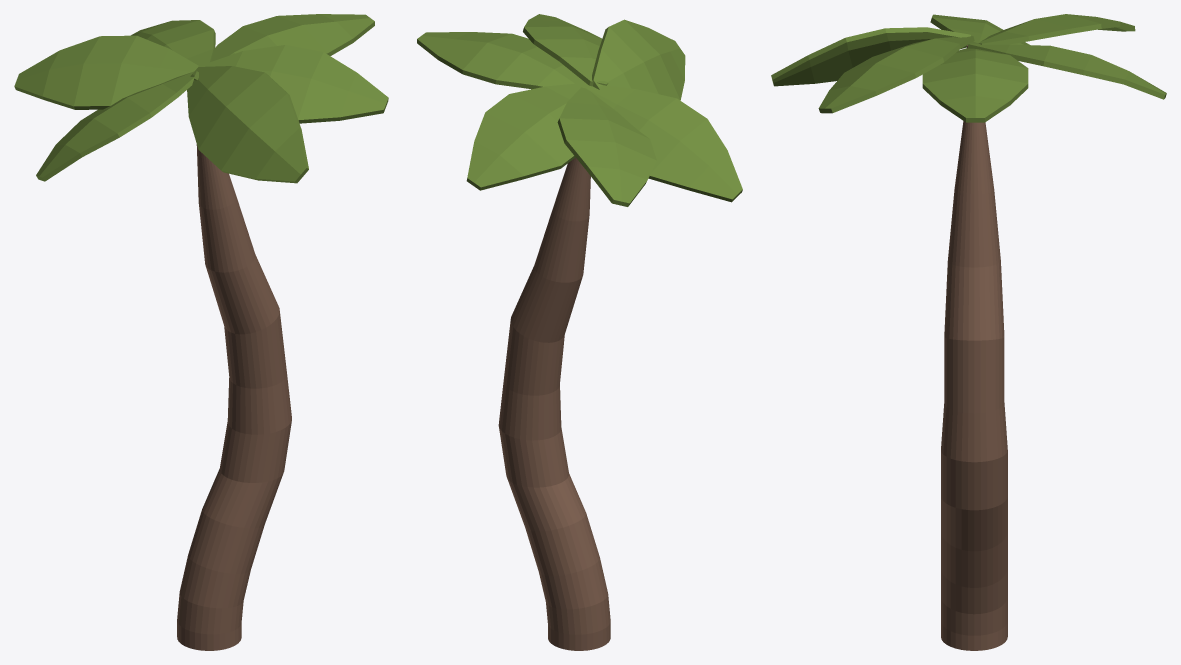
The model's file is coconut_tree.glb.
3 renders of one model, left to right at view 1: azimuth 30°, elevation 25°; view 2: azimuth 150°, elevation 25°; view 3: azimuth 270°, elevation 25°, orthographic. The views are drawn at different scales.
Parts seen in each view (by area): view 1: Circle.001, Cube.002, Cube.003, Cube.001, Cube.004, Cube, Cube.005; view 2: Circle.001, Cube.004, Cube.005, Cube.003, Cube, Cube.002, Cube.001; view 3: Circle.001, Cube, Cube.001, Cube.002, Cube.005, Cube.003, Cube.004.
Boxes of the visible parts, x1,y1,x2,y2 form: Circle.001: [177, 144, 291, 650]; Cube.002: [187, 66, 308, 183]; Cube.003: [14, 35, 198, 109]; Cube.001: [194, 45, 388, 123]; Cube.004: [36, 71, 194, 181]; Cube: [211, 14, 374, 61]; Cube.005: [131, 20, 215, 65]; Circle.001: [498, 157, 610, 650]; Cube.004: [587, 85, 742, 202]; Cube.005: [466, 82, 589, 190]; Cube.003: [557, 87, 656, 206]; Cube: [417, 32, 584, 89]; Cube.002: [592, 19, 685, 100]; Cube.001: [523, 14, 608, 86]; Circle.001: [941, 45, 1007, 650]; Cube: [922, 48, 1028, 122]; Cube.001: [818, 36, 974, 113]; Cube.002: [771, 27, 970, 86]; Cube.005: [967, 43, 1166, 99]; Cube.003: [978, 14, 1135, 44]; Cube.004: [930, 14, 1030, 45].
Bounding box in the file's own units: 0.9895 × 1.7 × 0.9943.
